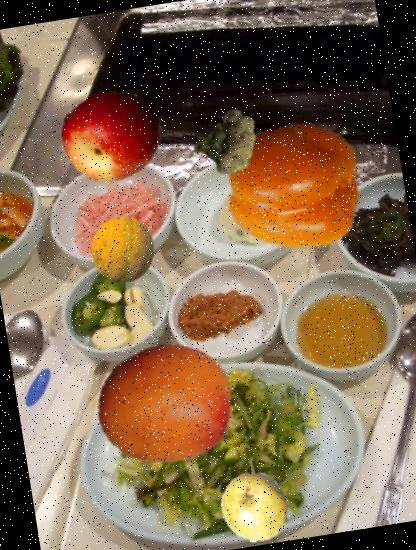Apricot: (85, 323, 245, 483)
Cantaloupe: (83, 210, 163, 290)
Cauliflower: (186, 102, 264, 182)
Nectarine: (55, 80, 167, 192)
Pear: (216, 468, 296, 548)
Pepper: (214, 107, 376, 269)
